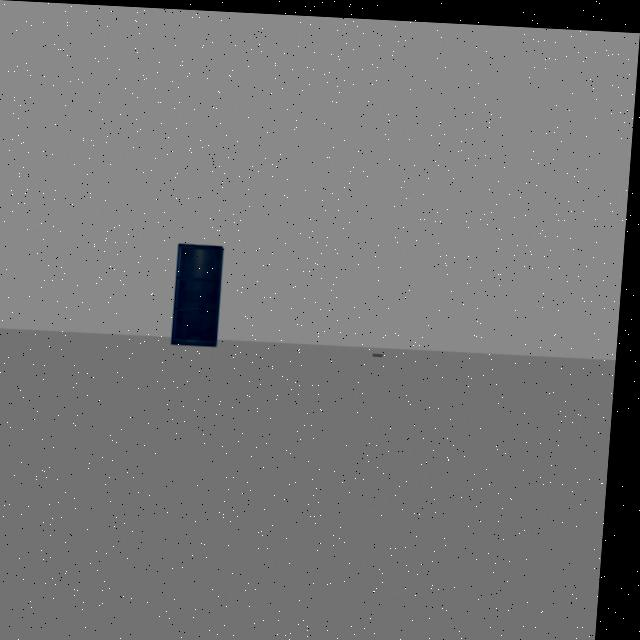bowl: (370, 342, 399, 375)
shelf: (157, 217, 257, 376)
